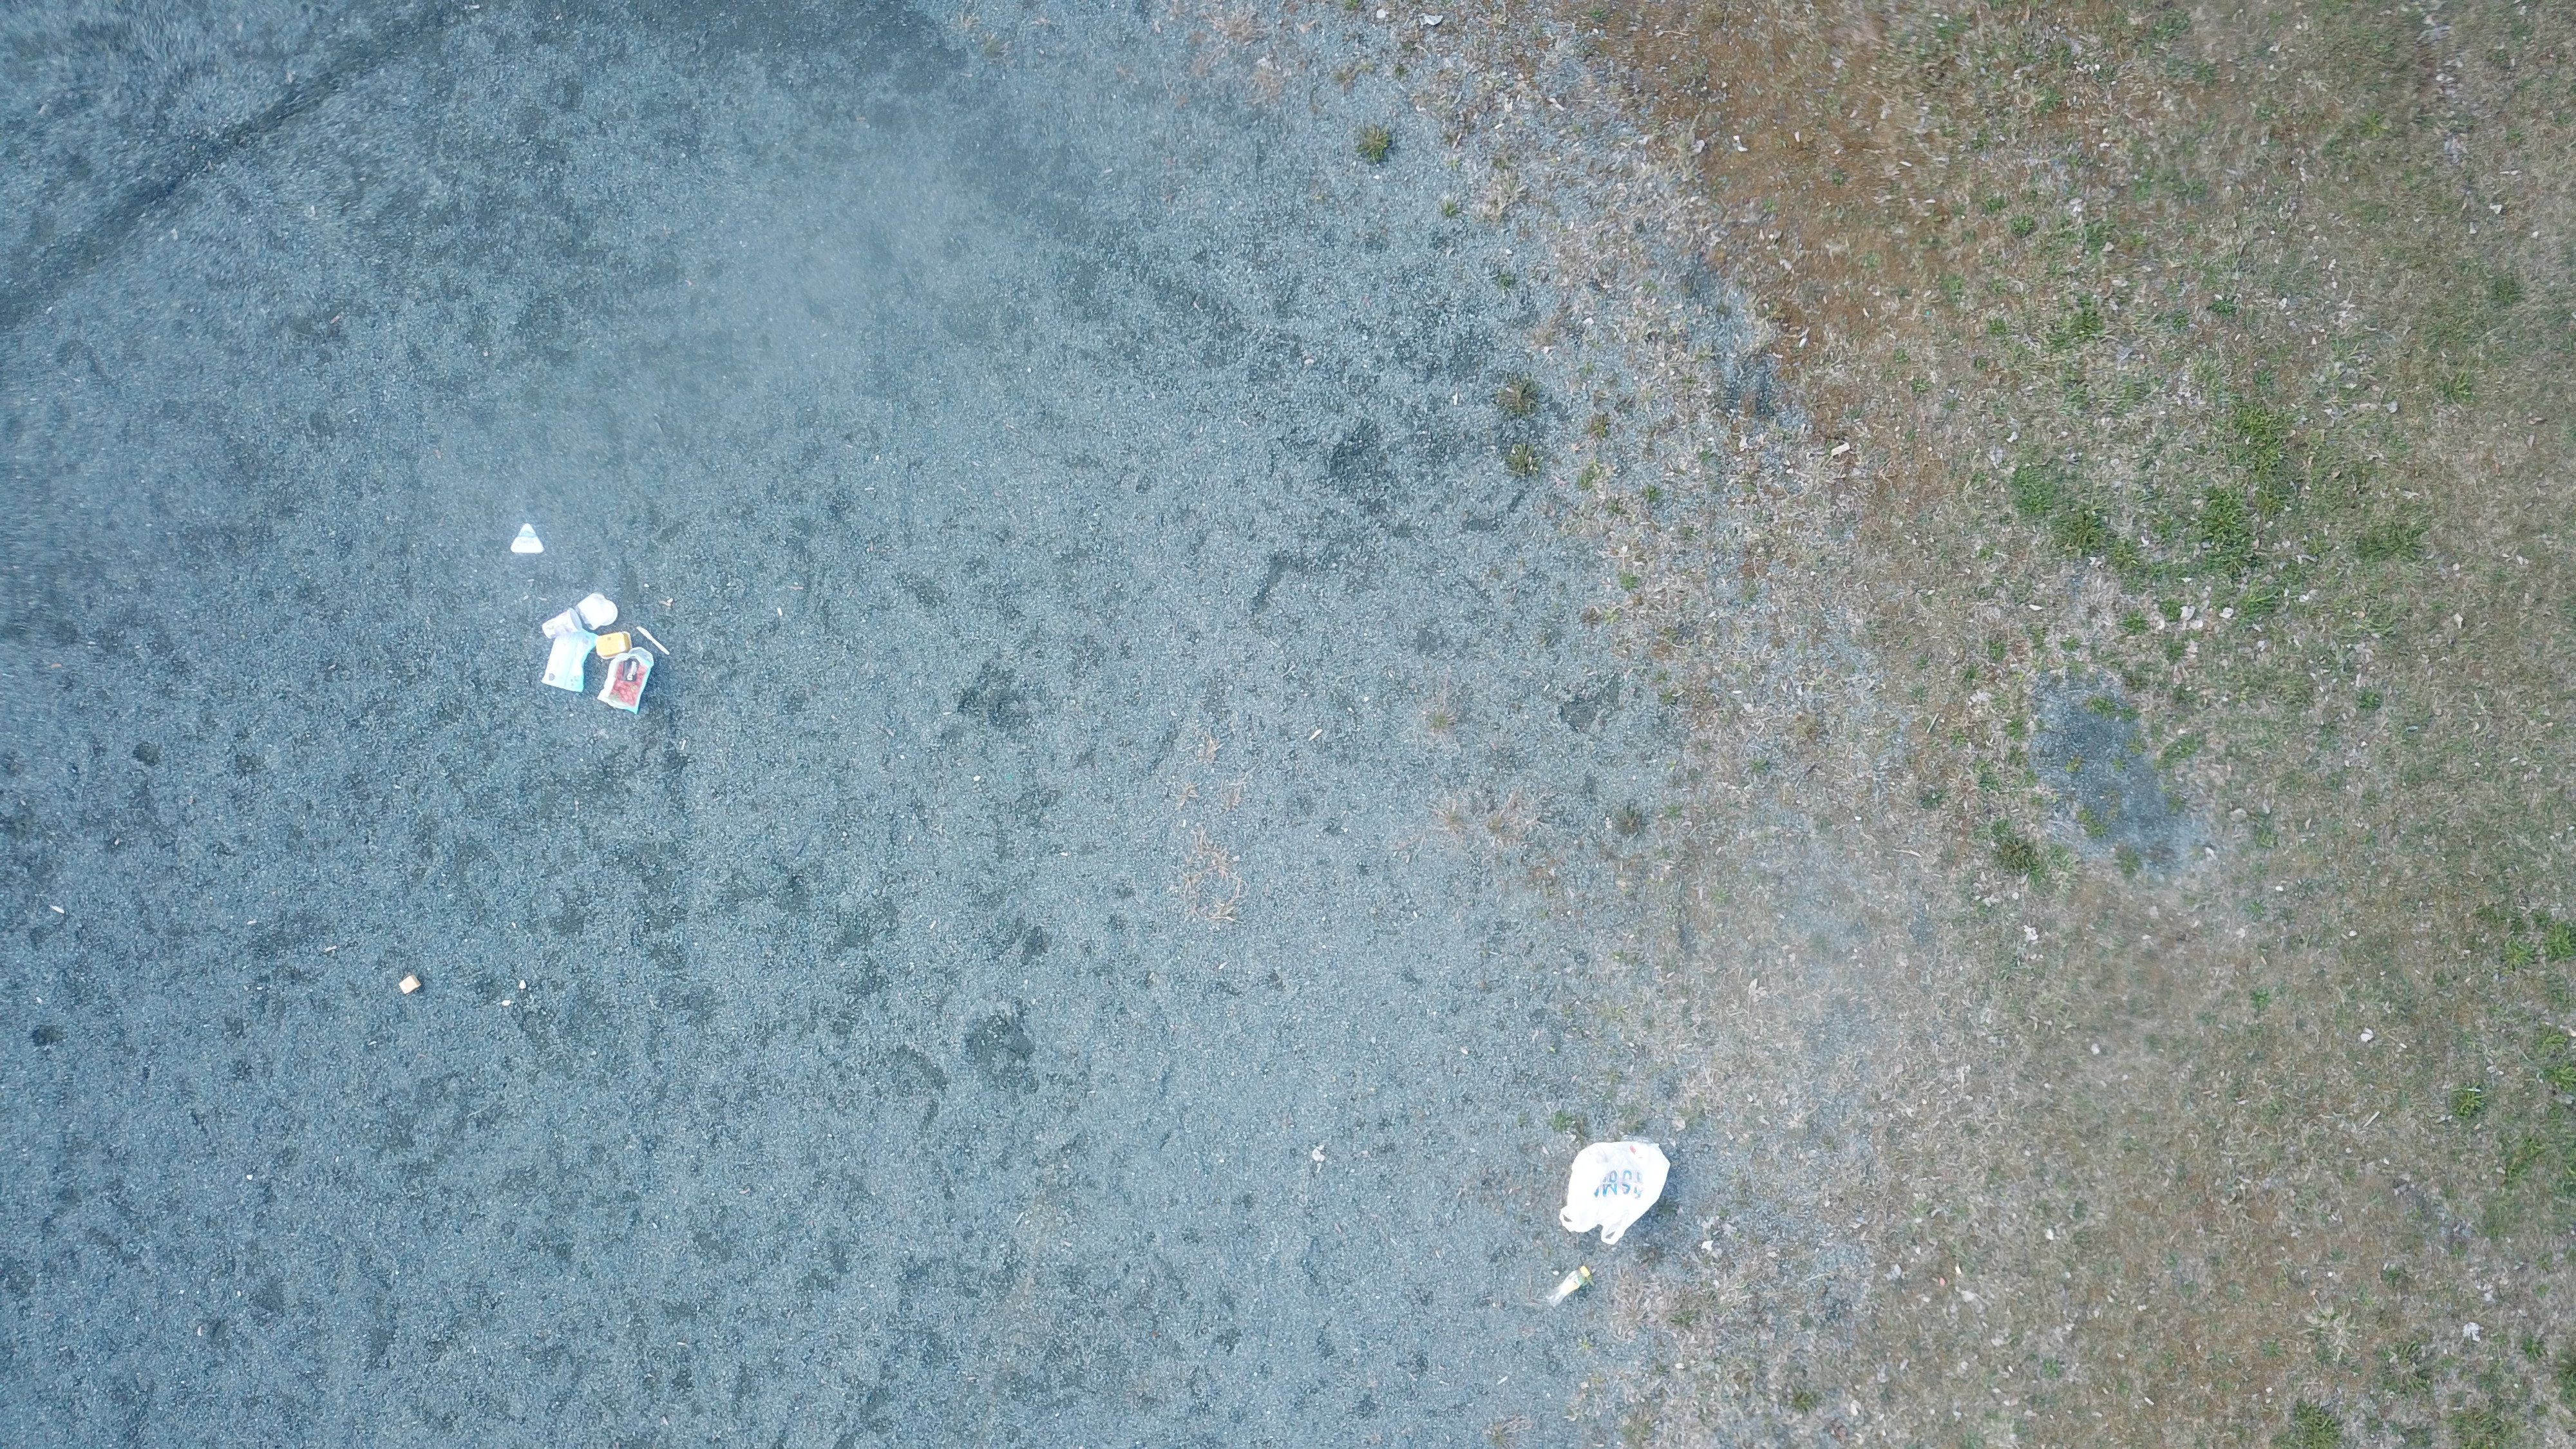Plastic: (1560, 1139, 1670, 1246), (598, 646, 655, 715), (545, 628, 589, 694), (575, 589, 621, 630), (541, 603, 584, 635), (510, 520, 547, 556), (632, 625, 671, 656), (400, 975, 423, 996)
PlasticBottle: (1545, 1267, 1587, 1311)
